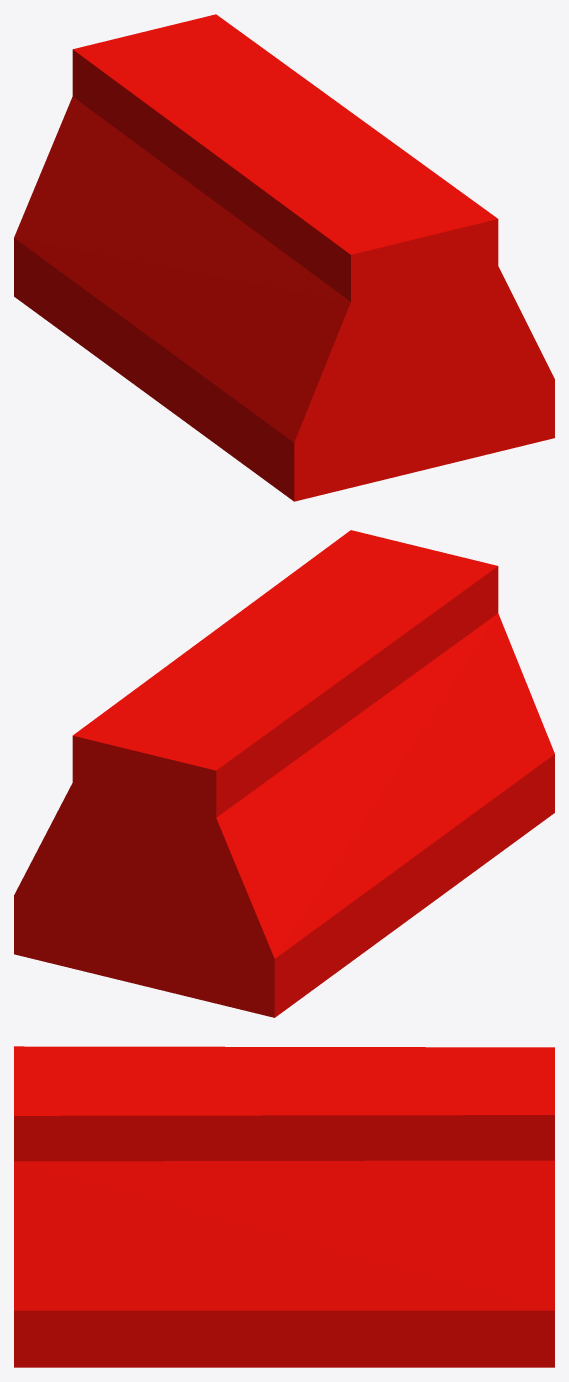
Rendered from red.dae.
3 views of the same model, one above another, from view 1: azimuth 30°, elevation 25°; view 2: azimuth 150°, elevation 25°; view 3: azimuth 270°, elevation 25° (orthographic). The views are drawn at different scales.
Parts seen in each view (by area): view 1: Cube.142; view 2: Cube.142; view 3: Cube.142.
Boxes of the visible parts, x1=… form: Cube.142: x1=14, y1=14, x2=554, y2=501; Cube.142: x1=14, y1=530, x2=554, y2=1017; Cube.142: x1=14, y1=1046, x2=554, y2=1367.
Bounding box in the file's own units: 1.07 × 2 × 0.9174.
